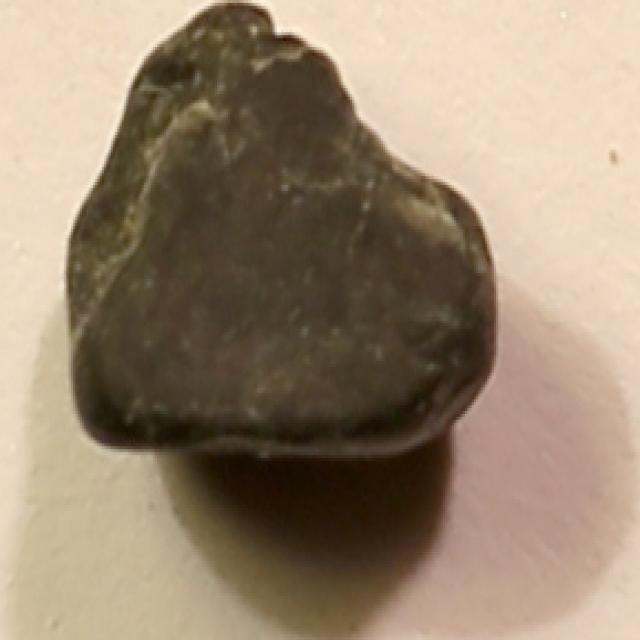stone: (59, 0, 502, 464)
